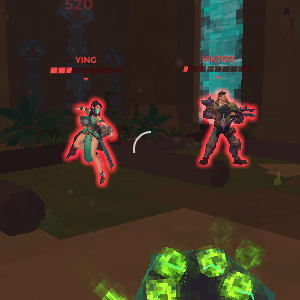model: (193, 82, 255, 173), (62, 93, 121, 188)
